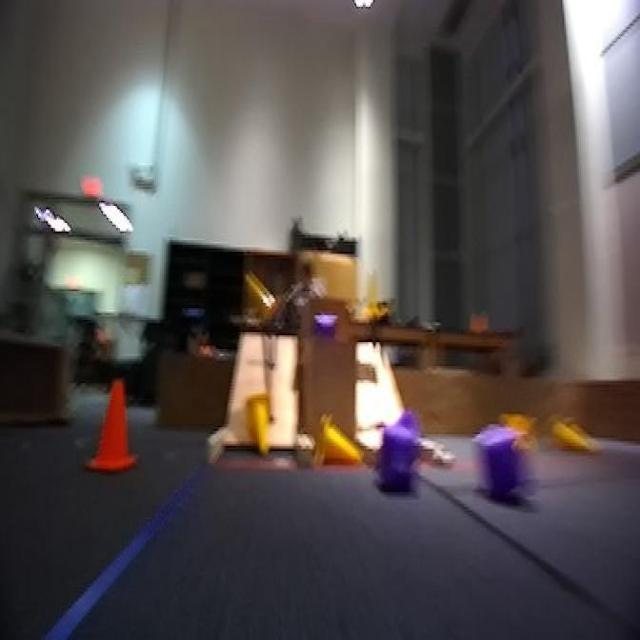frc_cone: (241, 266, 278, 336), (546, 413, 595, 458), (353, 264, 387, 327), (246, 390, 275, 461), (315, 422, 348, 461), (494, 407, 534, 439)
frc_cube: (477, 431, 526, 498), (381, 422, 420, 482), (312, 310, 342, 344)
